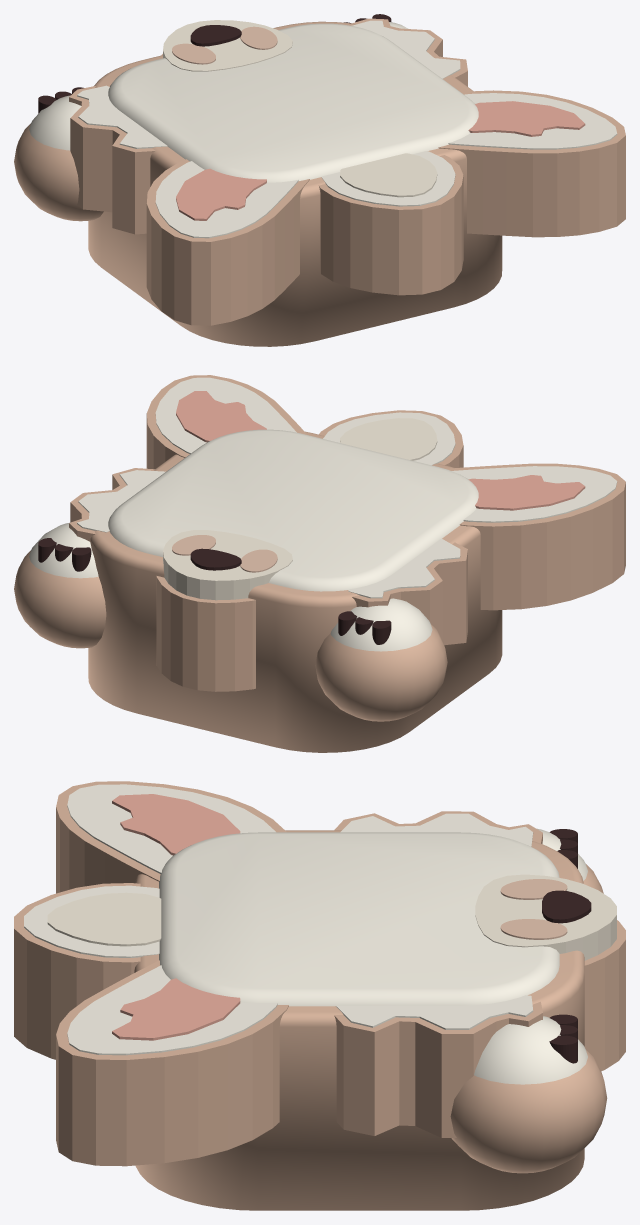
The model's file is body_raposa_artica.fbx.
3 renders of one model, top to bottom at view 1: azimuth 30°, elevation 25°; view 2: azimuth 150°, elevation 25°; view 3: azimuth 270°, elevation 25°, orthographic. The views are drawn at different scales.
Visible parts, largest first — view 1: body_raposa_artica_corpo, body_raposa_artica_mao_esq; view 2: body_raposa_artica_corpo, body_raposa_artica_mao_esq, body_raposa_artica_mao; view 3: body_raposa_artica_corpo, body_raposa_artica_mao, body_raposa_artica_mao_esq.
Part boxes in pixels (bbox=[...]): body_raposa_artica_corpo: bbox=[69, 18, 625, 346]; body_raposa_artica_mao_esq: bbox=[14, 87, 103, 221]; body_raposa_artica_corpo: bbox=[69, 375, 625, 752]; body_raposa_artica_mao_esq: bbox=[315, 598, 447, 721]; body_raposa_artica_mao: bbox=[14, 522, 106, 648]; body_raposa_artica_corpo: bbox=[14, 781, 625, 1210]; body_raposa_artica_mao: bbox=[450, 1014, 607, 1173]; body_raposa_artica_mao_esq: bbox=[537, 828, 603, 893].
Size of the model in its own units: 5.86 by 2.06 by 5.43.
Materials: 1 (1 with a texture image).
